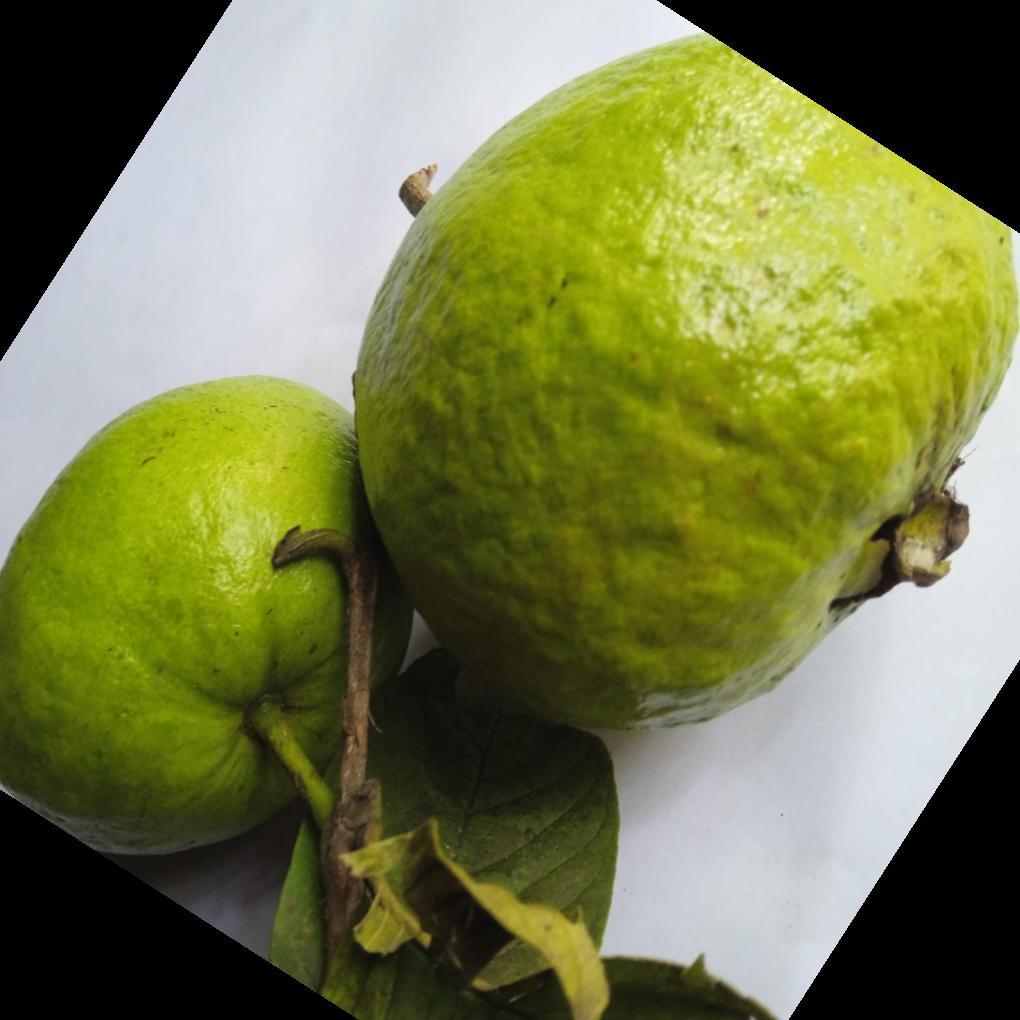FreshGuava: (0, 38, 1020, 859)
